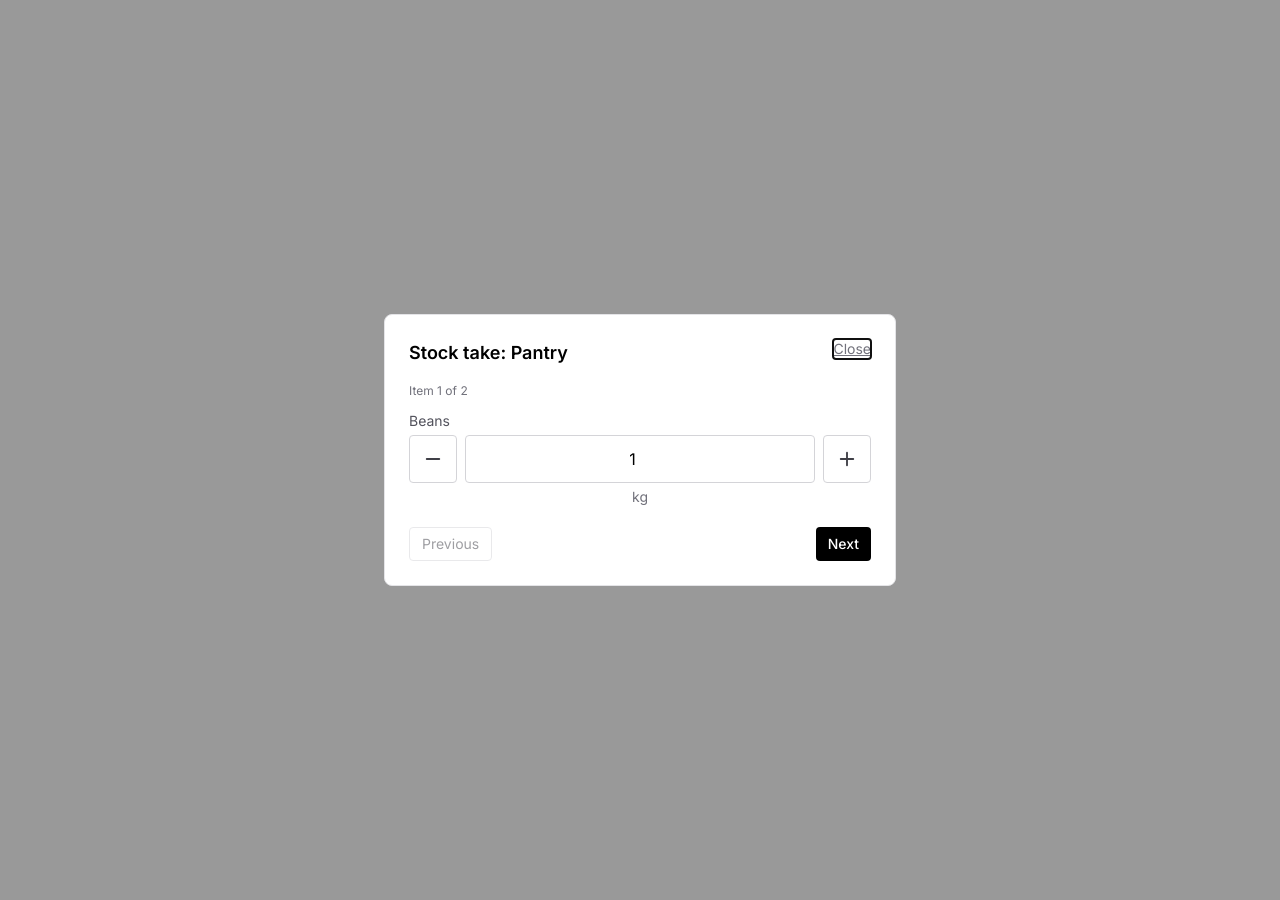
Test: StockToShelfDialog › does not carry a stale error over to the next item on Next
Replace the text in the number field with "-1" at (640, 459), box [465, 435, 815, 483]
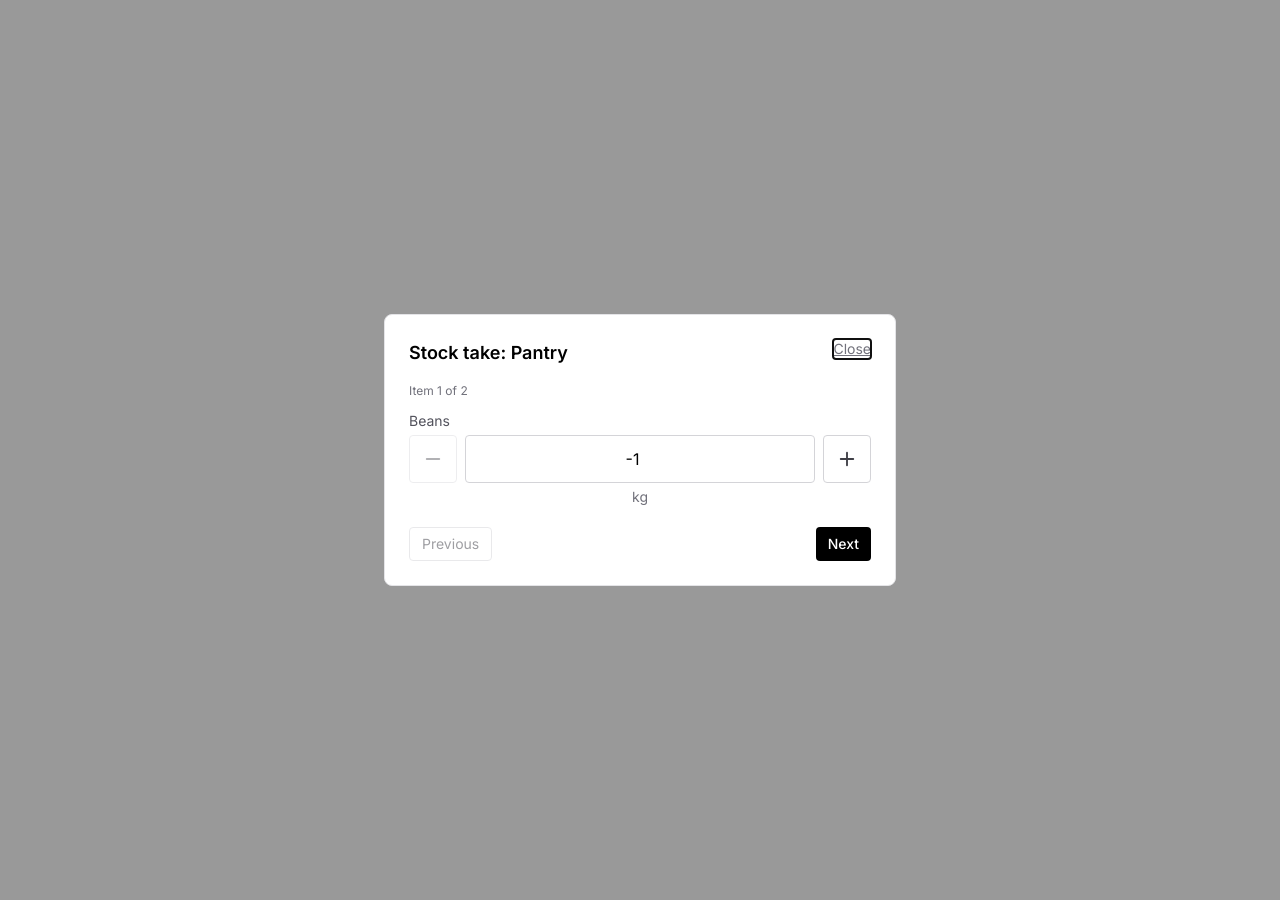
Leave the number field, box [465, 435, 815, 483]
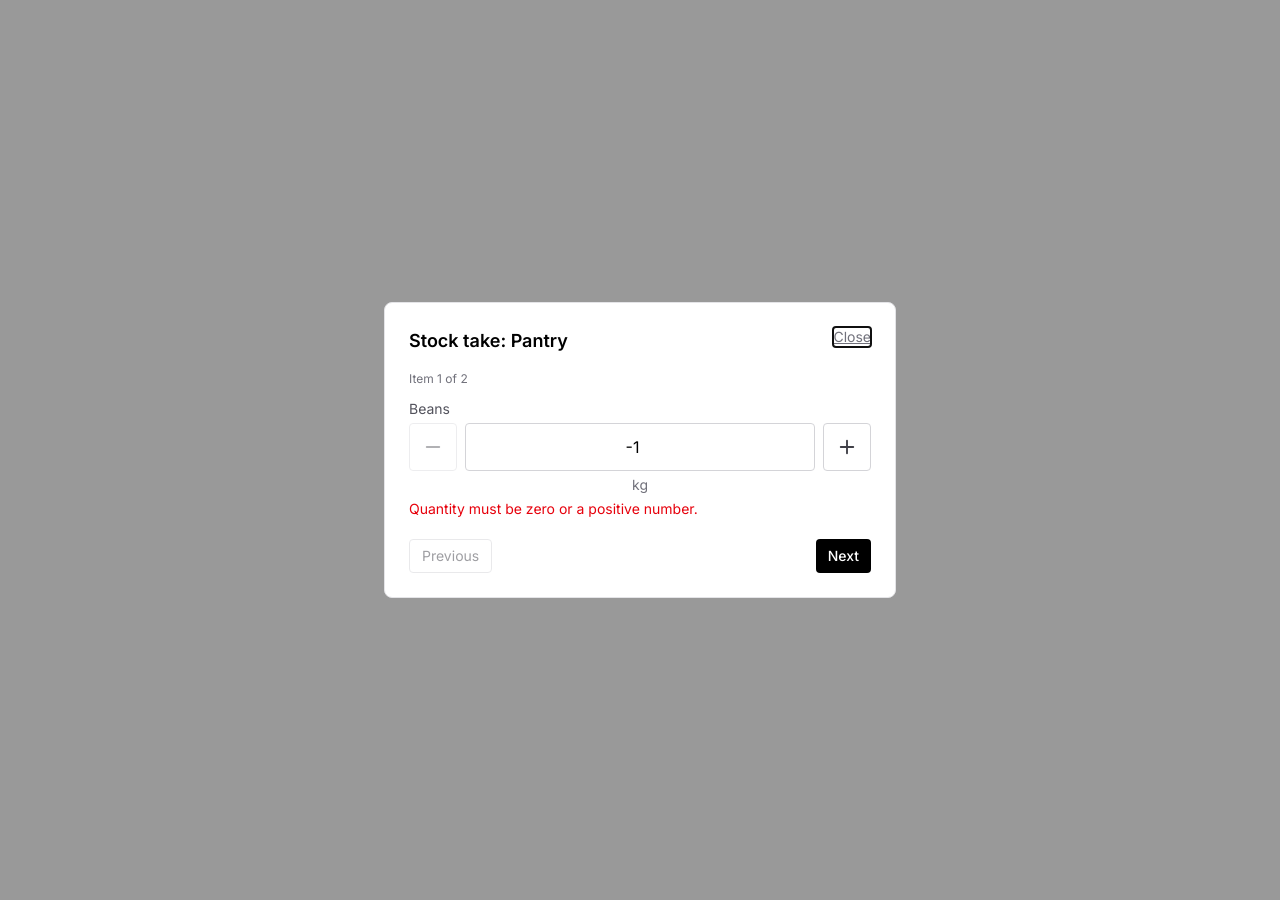
Expected: the text "Quantity must be zero or a positive number." is shown, [409, 500, 698, 517]
Click the button "Next" at (843, 556), box [816, 539, 871, 573]
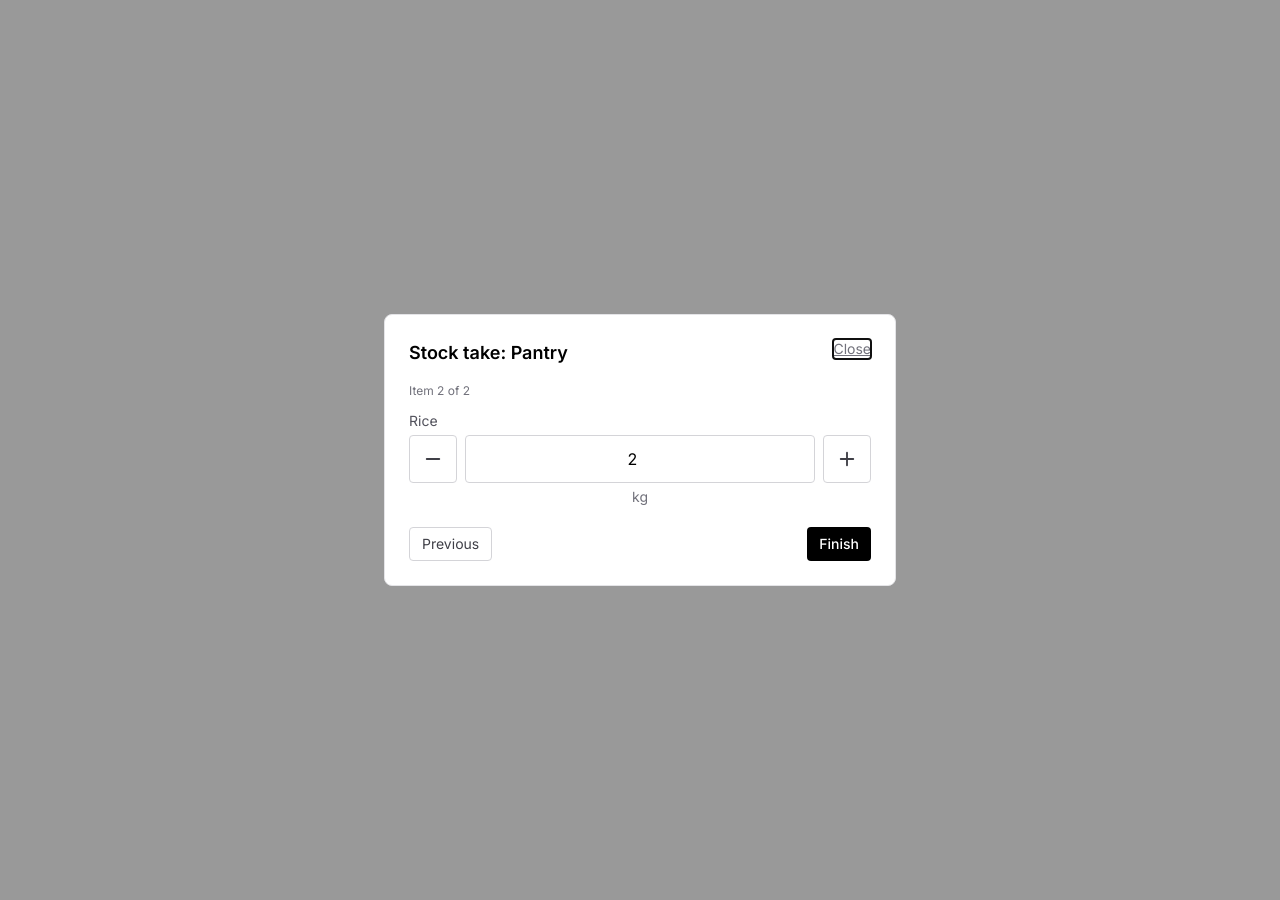
Expected: the text "Quantity must be zero or a positive number." is gone
